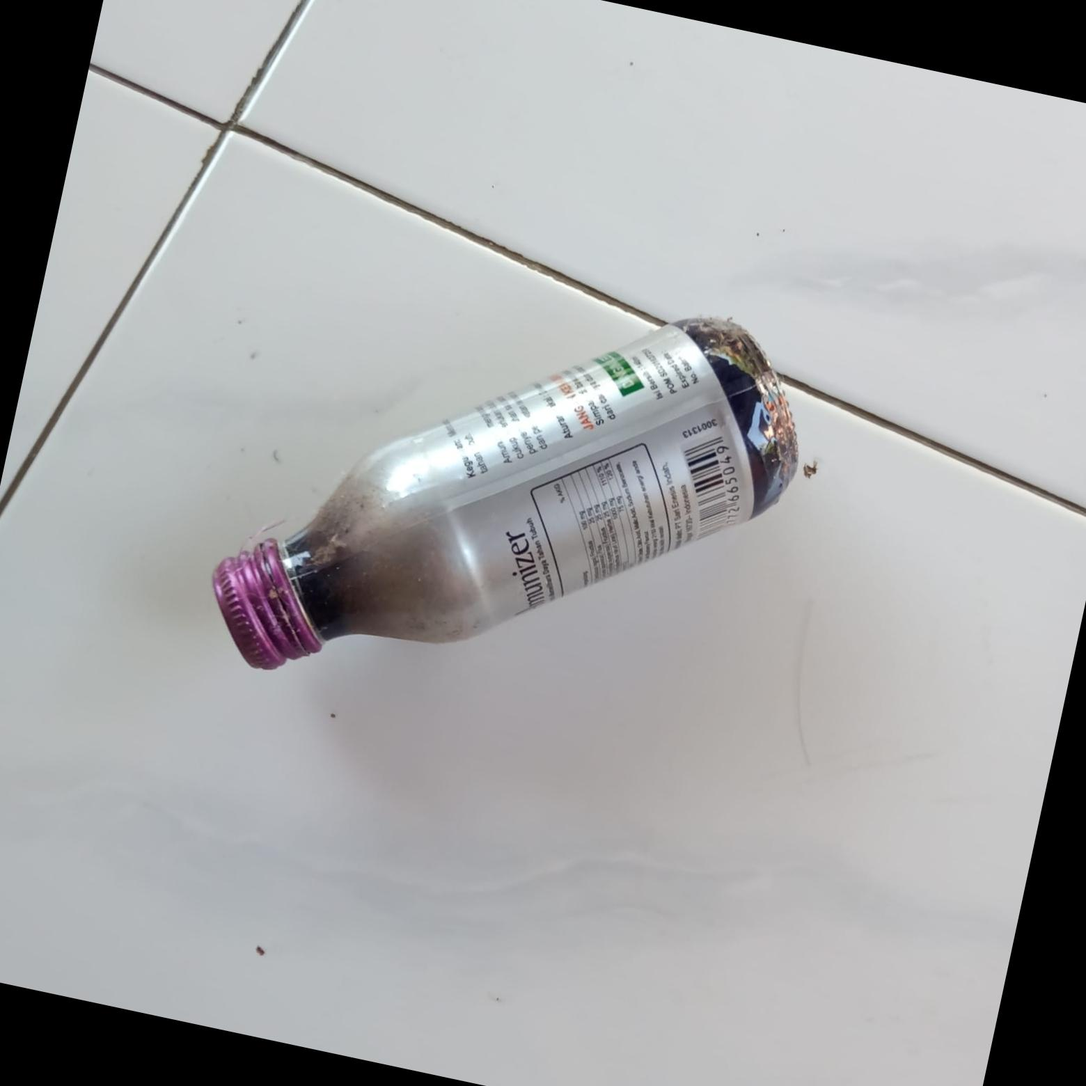Plastik: (195, 224, 831, 772)
